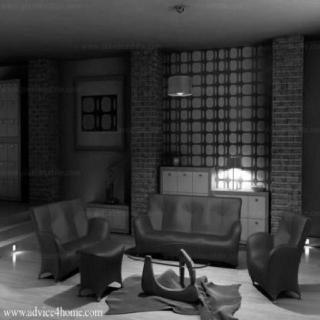other: (162, 68, 198, 108), (220, 154, 247, 188)
